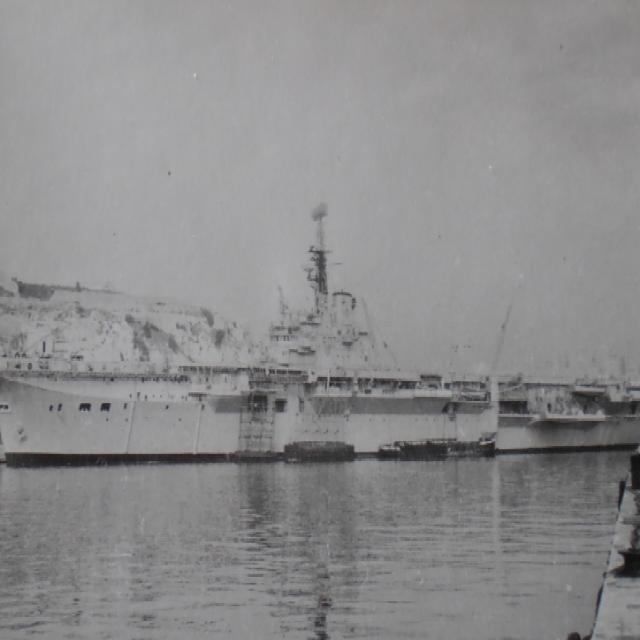Portanaves: (1, 184, 640, 473)
